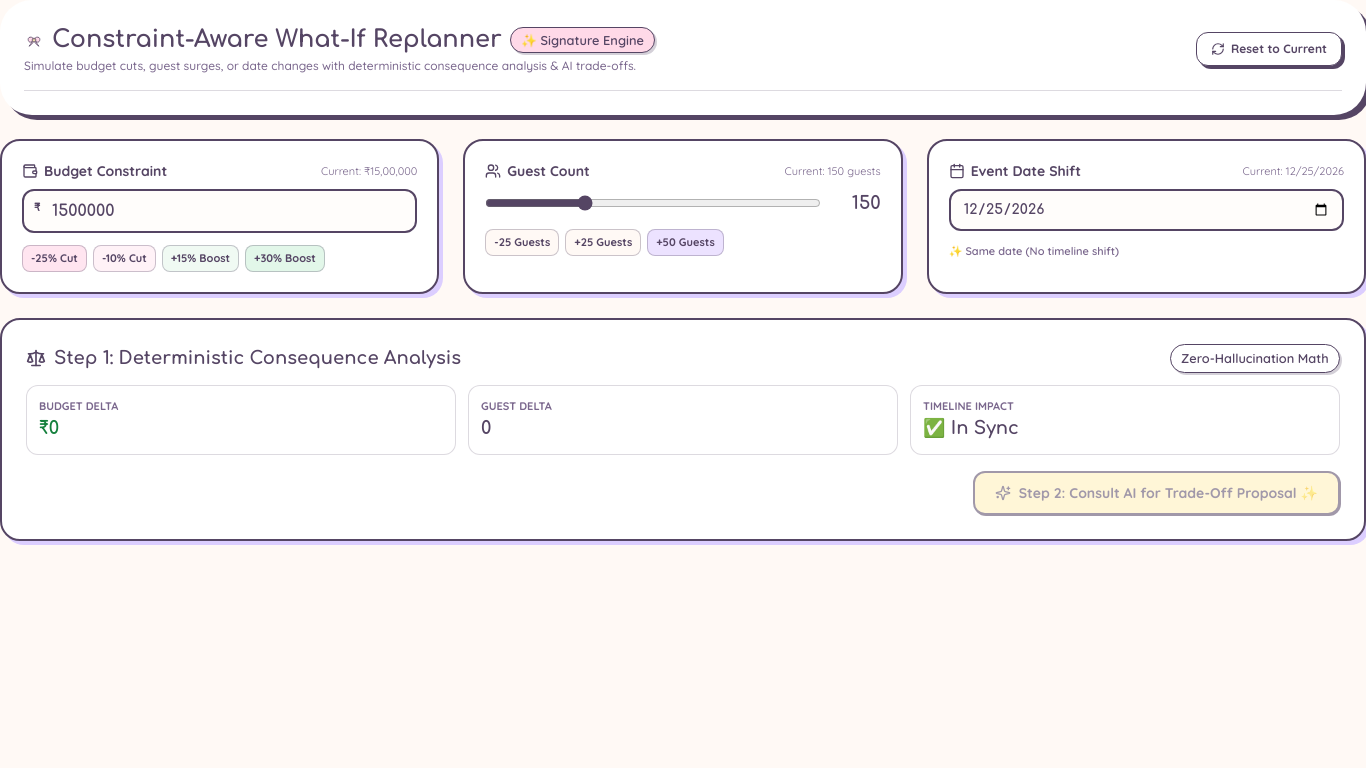
Scenario: WhatIfSimulatorTab Signature Replanner Component › calculates deterministic warnings when budget is cut
The image size is (1366, 768).
# Click -25% Cut button
Click the button "-25% Cut": (54, 258) [22,245,87,272]
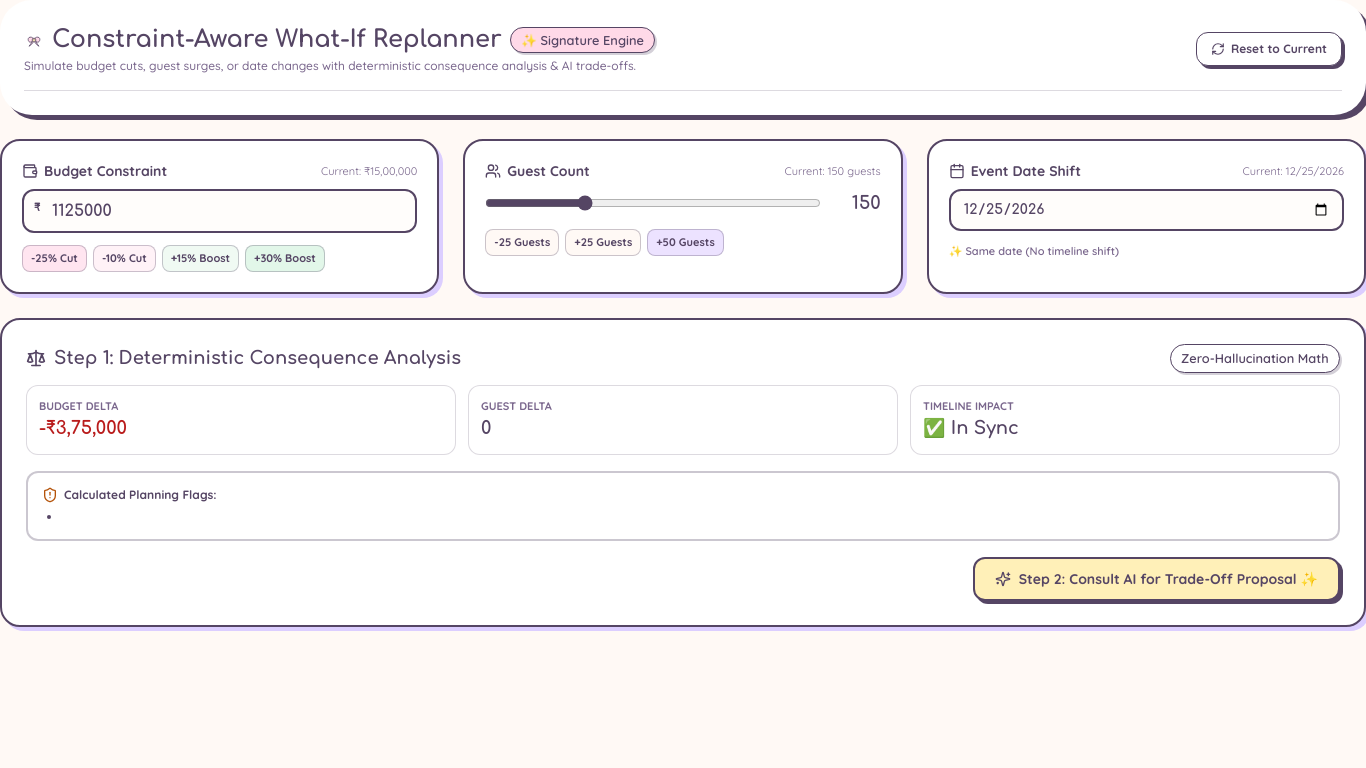
Check: the text "Calculated Planning Flags:" is shown, box [64,487,216,503]
